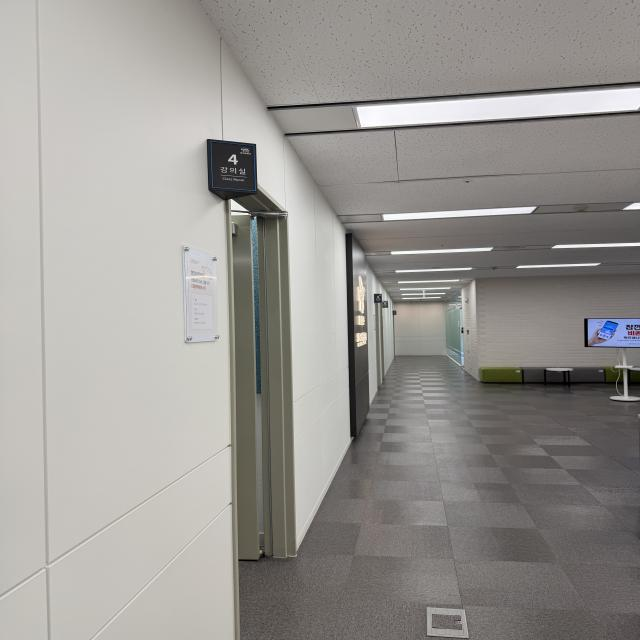room4: (207, 140, 256, 192)
